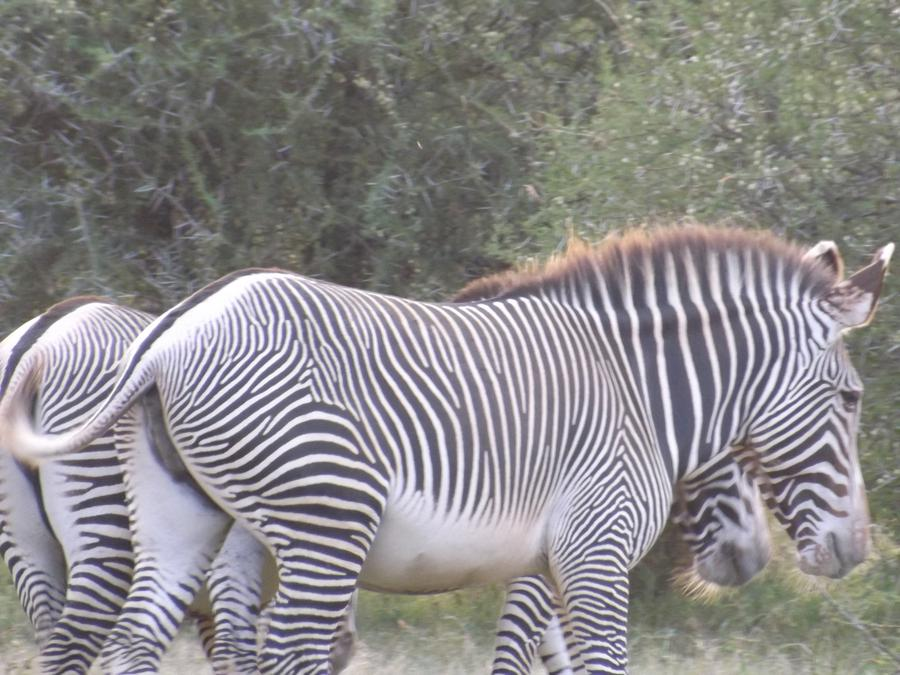zebra_grevys: (152, 263, 639, 568)
